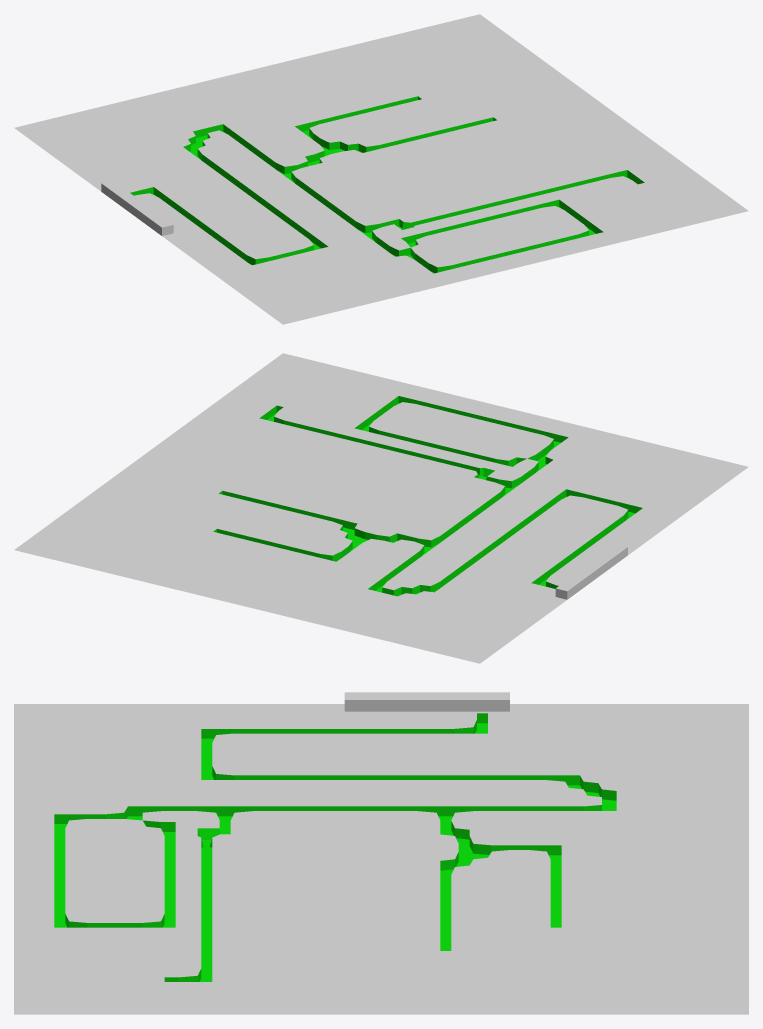
The model's file is mapBase.fbx.
3 renders of one model, top to bottom at view 1: azimuth 30°, elevation 25°; view 2: azimuth 150°, elevation 25°; view 3: azimuth 270°, elevation 25°, orthographic. The views are drawn at different scales.
Parts seen in each view (by area): view 1: base_map_01; view 2: base_map_01; view 3: base_map_01.
Boxes of the visible parts, x1,y1,x2,y2 form: base_map_01: (14, 14, 748, 324); base_map_01: (14, 353, 748, 663); base_map_01: (14, 692, 748, 1014).
Bounding box in the file's own units: 37.43 × 1.21 × 37.43.
